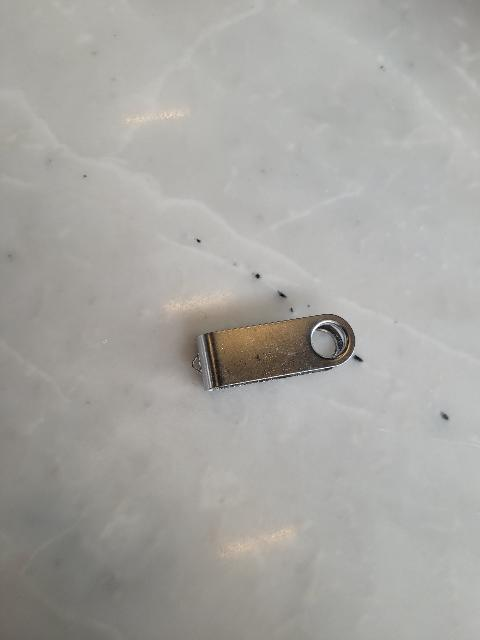Metal: (196, 308, 367, 391)
